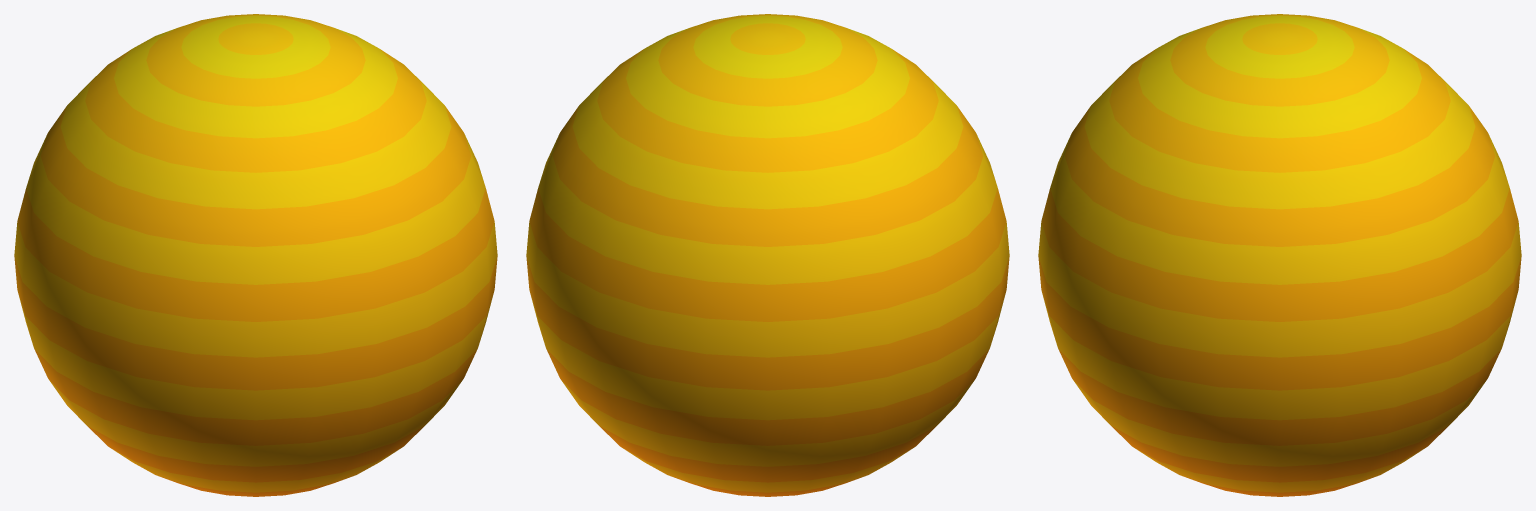
The model's file is ground_005.glb.
3 renders of one model, left to right at view 1: azimuth 30°, elevation 25°; view 2: azimuth 150°, elevation 25°; view 3: azimuth 270°, elevation 25°, orthographic.
Parts seen in each view (by area): view 1: ground_005; view 2: ground_005; view 3: ground_005.
Boxes of the visible parts, box(x1,y1,x2,y2) form: ground_005: box(14, 14, 497, 496); ground_005: box(526, 14, 1009, 496); ground_005: box(1038, 14, 1521, 496).
Bounding box in the file's own units: 20.09 × 20.09 × 20.09.
1 material, 1 textured.
